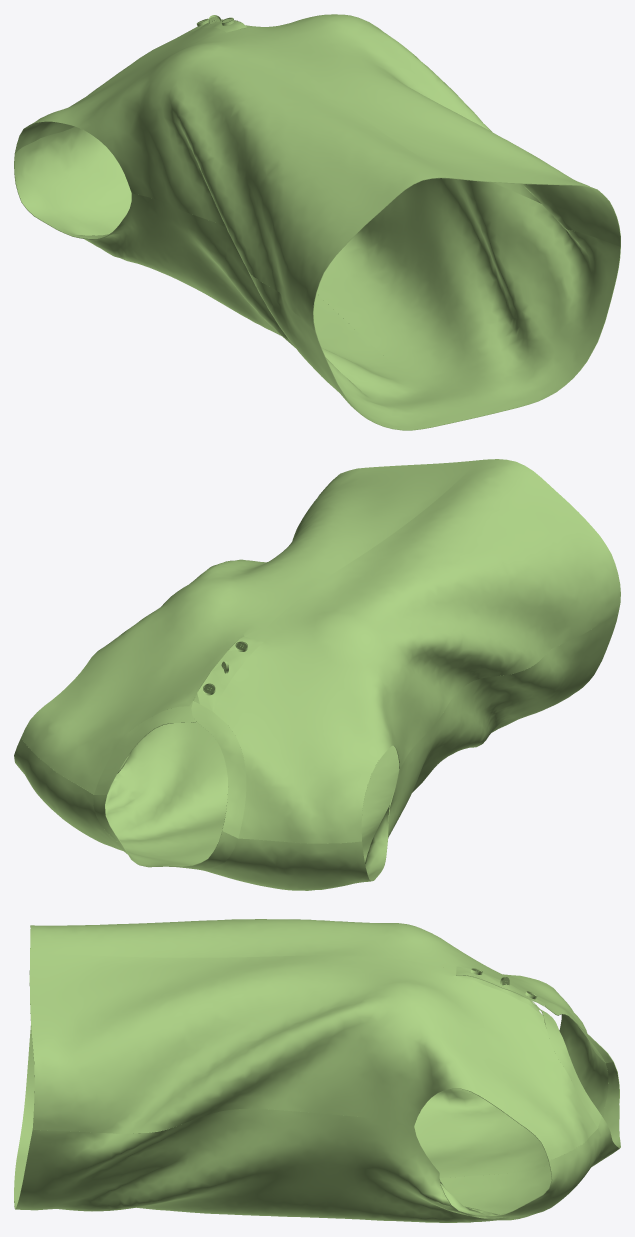
Rendered from sew1.fbx.
3 views of the same model, one above another, from view 1: azimuth 30°, elevation 25°; view 2: azimuth 150°, elevation 25°; view 3: azimuth 270°, elevation 25° (orthographic). The views are drawn at different scales.
Visible parts, largest first — view 1: sew; view 2: sew; view 3: sew.
Part boxes in pixels (bbox=[...]): sew: bbox=[14, 14, 620, 430]; sew: bbox=[14, 459, 620, 890]; sew: bbox=[14, 919, 620, 1222].
Size of the model in its own units: 45.98 by 31.46 by 70.98.
